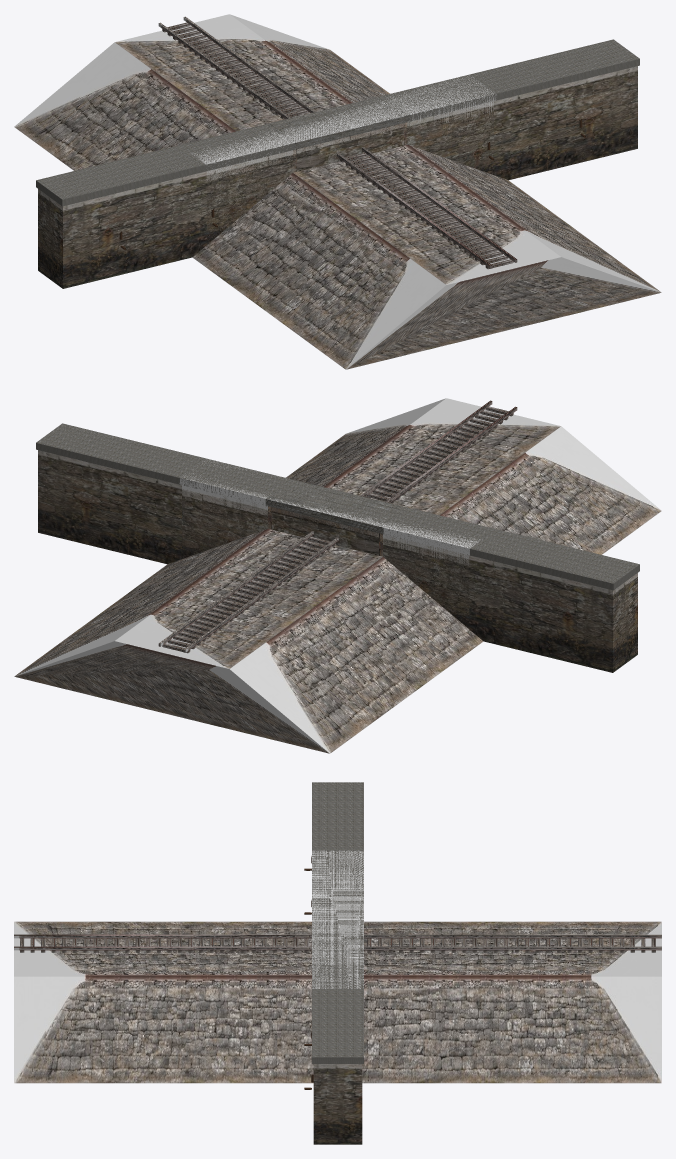
File: sea-works.glb
3 renders of one model, top to bottom at view 1: azimuth 30°, elevation 25°; view 2: azimuth 150°, elevation 25°; view 3: azimuth 270°, elevation 25°, orthographic. The views are drawn at different scales.
Visible parts, largest first — view 1: causeway, harbour-wall, harbour-coping, harbour-ramp-frame, harbour-ramp-coping, harbour-gate-coping; view 2: causeway, harbour-wall, harbour-coping, harbour-ramp-frame, harbour-ramp-coping, harbour-gate-coping, harbour-gate-frame; view 3: causeway, harbour-coping, harbour-ramp-coping, harbour-wall.
Part boxes in pixels (x1,y1,x2,y2): causeway: (14,14,661,369); harbour-wall: (38,42,637,288); harbour-coping: (36,39,639,206); harbour-ramp-frame: (206,101,493,244); harbour-ramp-coping: (191,75,496,168); harbour-gate-coping: (266,96,410,149); causeway: (14,398,661,753); harbour-wall: (38,424,637,672); harbour-coping: (36,423,639,590); harbour-ramp-frame: (182,485,469,628); harbour-ramp-coping: (179,460,480,555); harbour-gate-coping: (265,482,409,534); harbour-gate-frame: (268,506,382,556); causeway: (14,921,661,1083); harbour-coping: (312,782,363,1063); harbour-ramp-coping: (312,850,363,988); harbour-wall: (313,1064,362,1144).
Size of the model in its own units: 40.2 by 9.67 by 40.
Materials: 12 (12 with a texture image).
